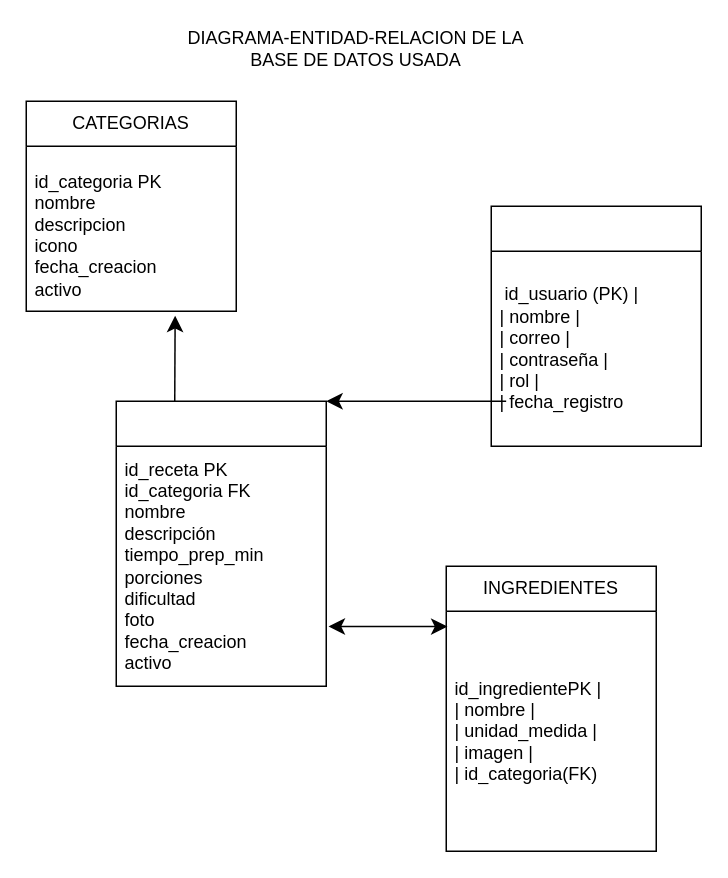
The diagram is 728 pixels wide and 878 high, and some of its shapes have lost their labels. The box of each missing label's shape, as (x1, y1, x2, y2) in pixels:
RECETAS: (115, 400, 326, 686)
USUARIOS: (490, 205, 701, 446)
